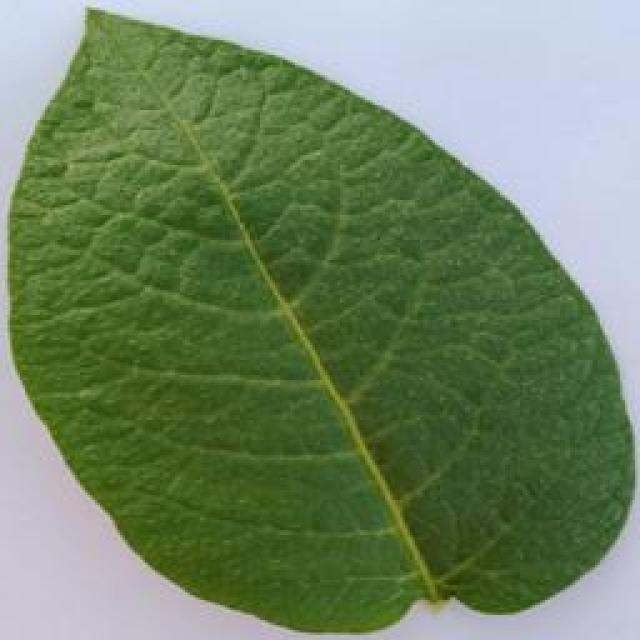Potato_Healthy: (10, 5, 622, 629)
